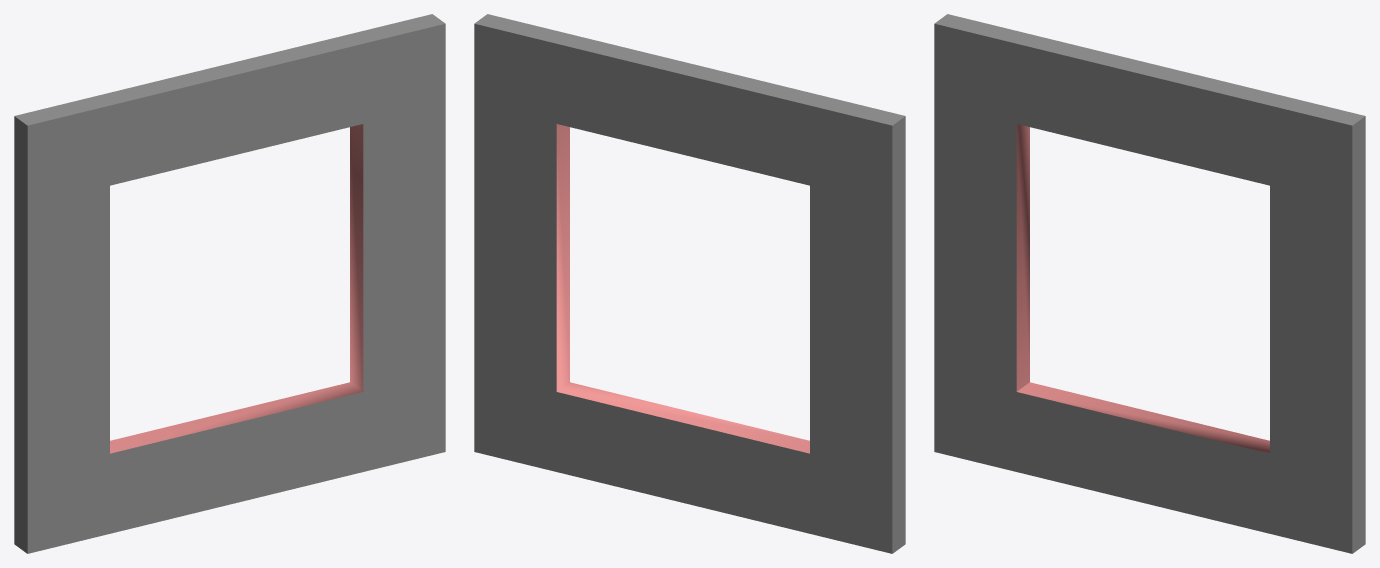
Rendered from sewage_frame.gltf.
The picture shows the model from 3 angles, left to right: view 1: azimuth 30°, elevation 25°; view 2: azimuth 150°, elevation 25°; view 3: azimuth 330°, elevation 25°; orthographic projection.
Parts seen in each view (by area): view 1: sewage_frame; view 2: sewage_frame; view 3: sewage_frame.
Part boxes in pixels (x1,y1,x2,y2): sewage_frame: (14, 14, 445, 553); sewage_frame: (474, 14, 905, 553); sewage_frame: (934, 14, 1365, 553).
Bounding box in the file's own units: 1.83 × 1.79 × 0.1.
